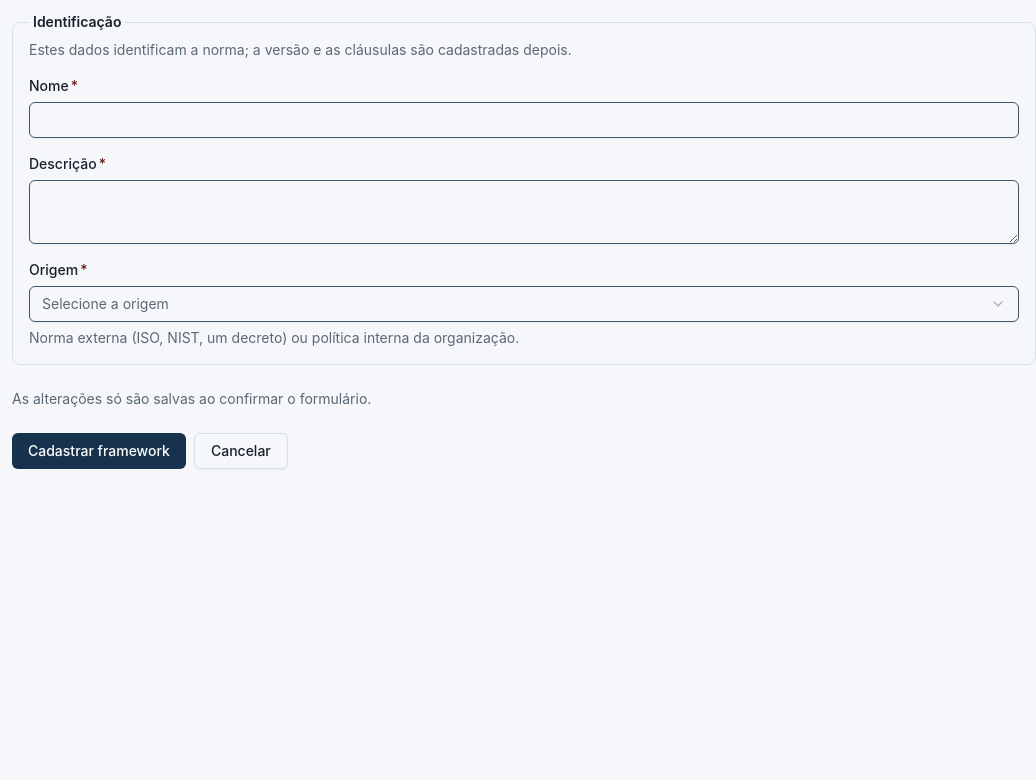
Test: FrameworkForm › requires name, description and origin
Click the button "Cadastrar framework": [99, 451] box [12,433,186,469]
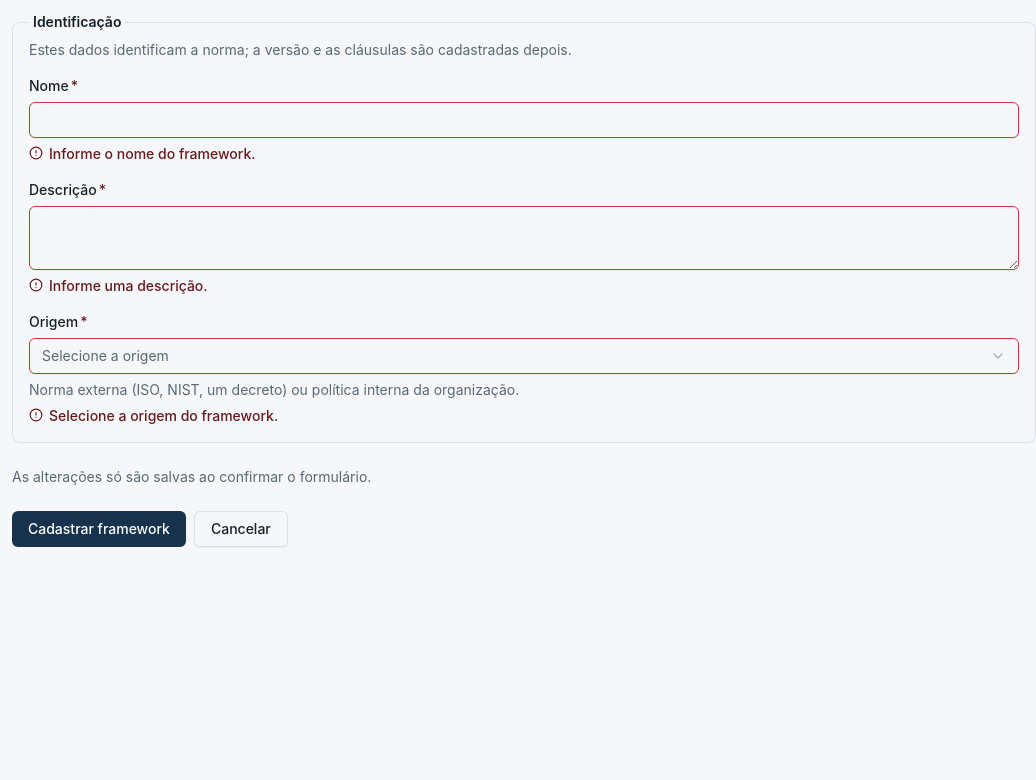
Expected: the text "Informe o nome do framework." is shown, [49,144,256,164]
Expected: the text "Informe uma descrição." is shown, [49,276,208,296]
Expected: the text "Selecione a origem do framework." is shown, [49,406,278,426]
